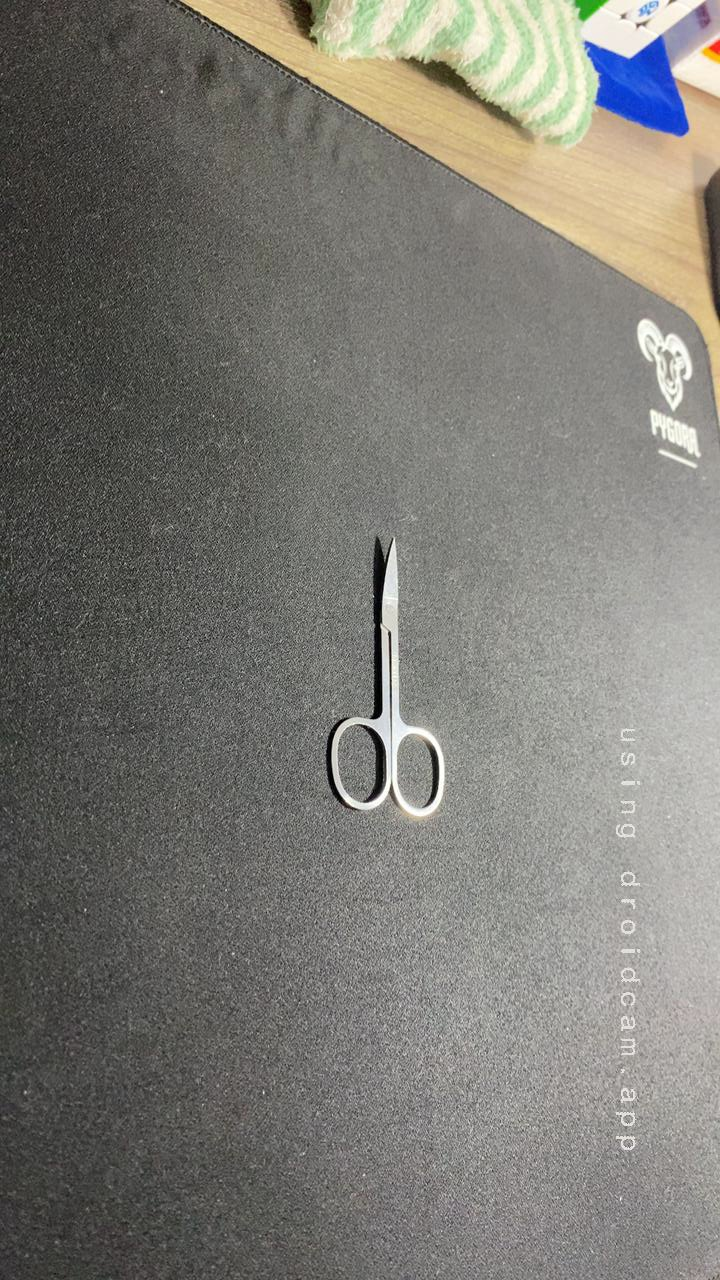scissor: (300, 523, 474, 834)
